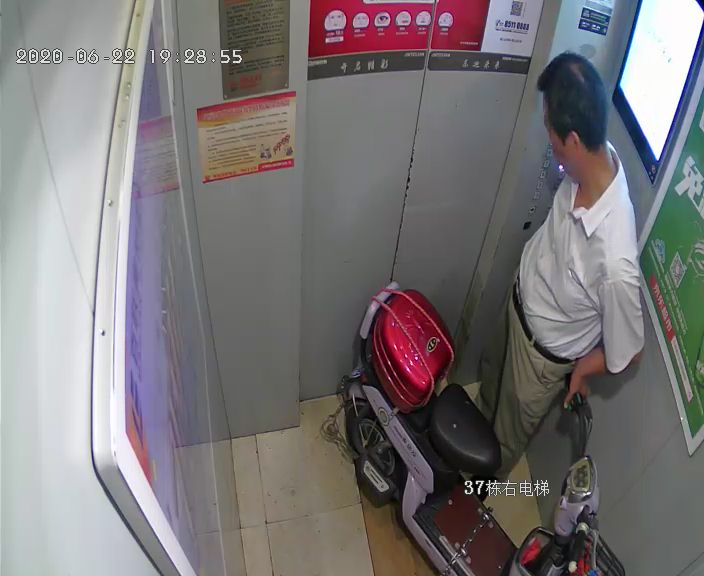Electric-bicycle: (323, 284, 622, 574)
